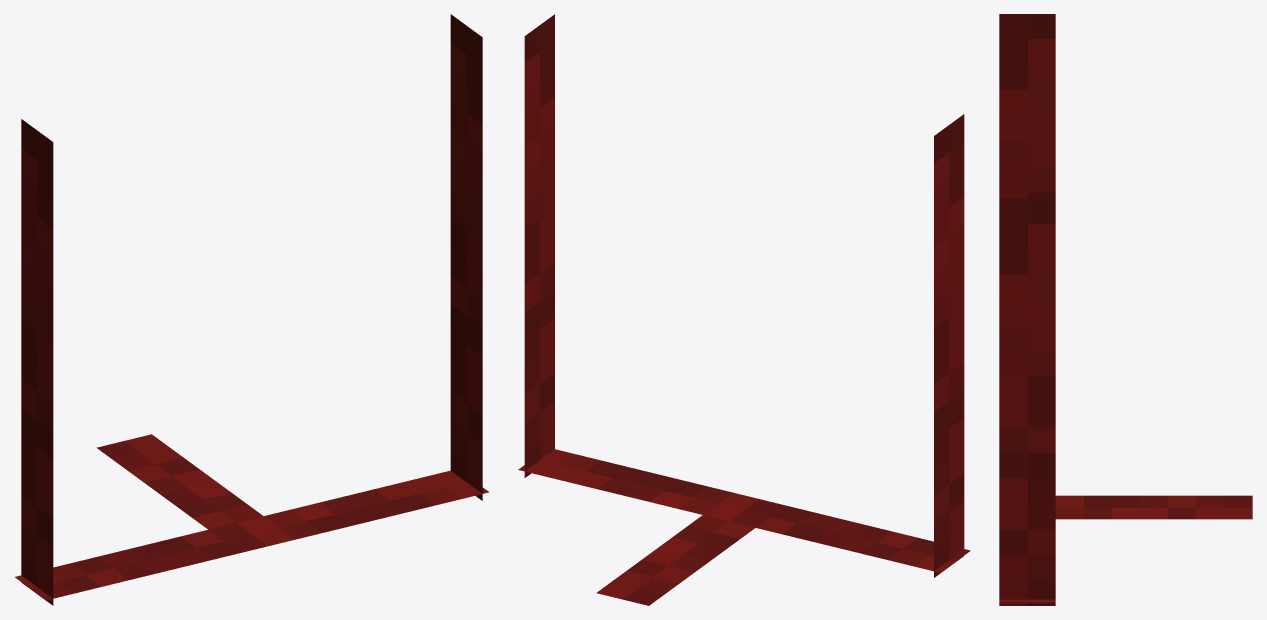
Rendered from dust_2201.gltf.
3 views of the same model, side by side, from view 1: azimuth 30°, elevation 25°; view 2: azimuth 150°, elevation 25°; view 3: azimuth 270°, elevation 25° (orthographic). The views are drawn at different scales.
Parts seen in each view (by area): view 1: dust_2201; view 2: dust_2201; view 3: dust_2201.
Boxes of the visible parts, <box> form: dust_2201: <box>15,14,488,605</box>; dust_2201: <box>518,14,970,605</box>; dust_2201: <box>999,14,1252,605</box>.
Bounding box in the file's own units: 1 × 1 × 0.5625.
1 material, 1 textured.
